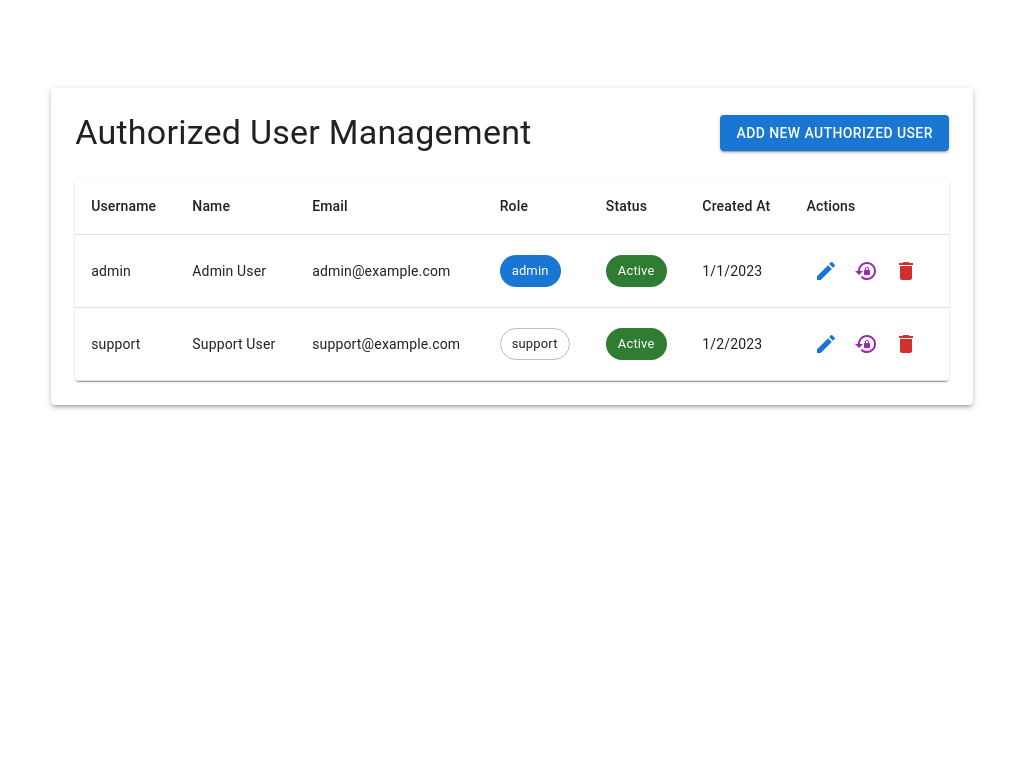
UserManagement Component › handles dialog open and close
This screenshot has width=1024, height=768.
# Click the Add New User button
Click the button "Add New Authorized User". click: (835, 133)
box: [720,115,949,151]
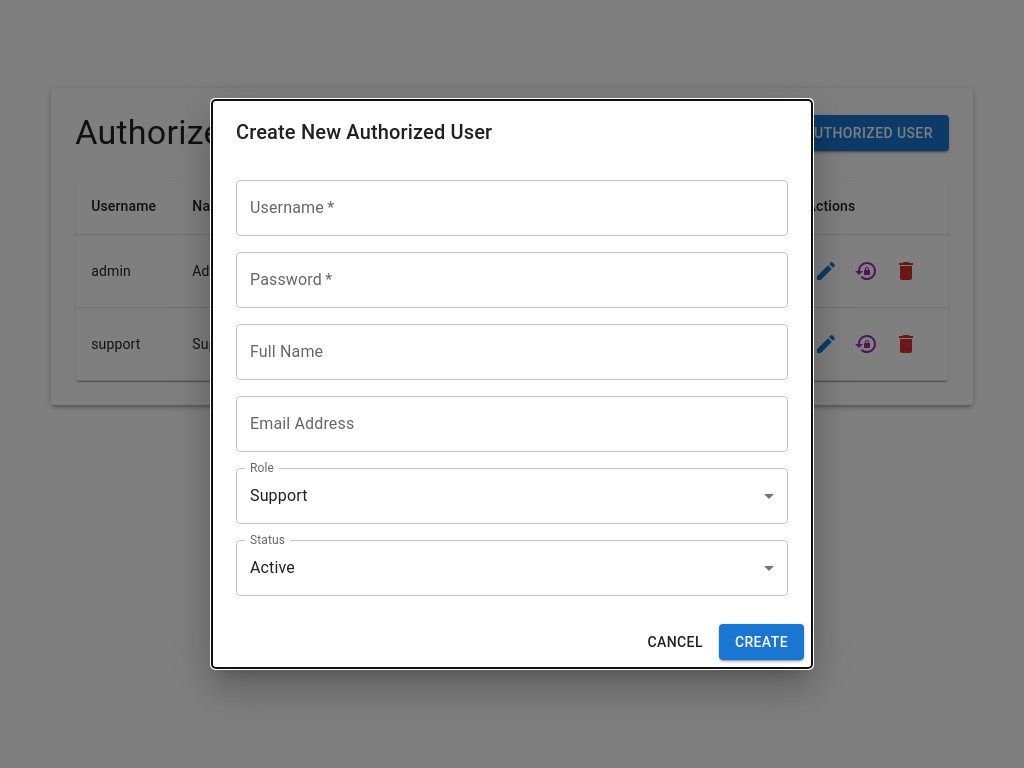
Now the dialog is shown, box [212,100,812,668]
# Find and click the Cancel button
Click the button "Cancel". click: (675, 642)
box: [639,624,711,660]
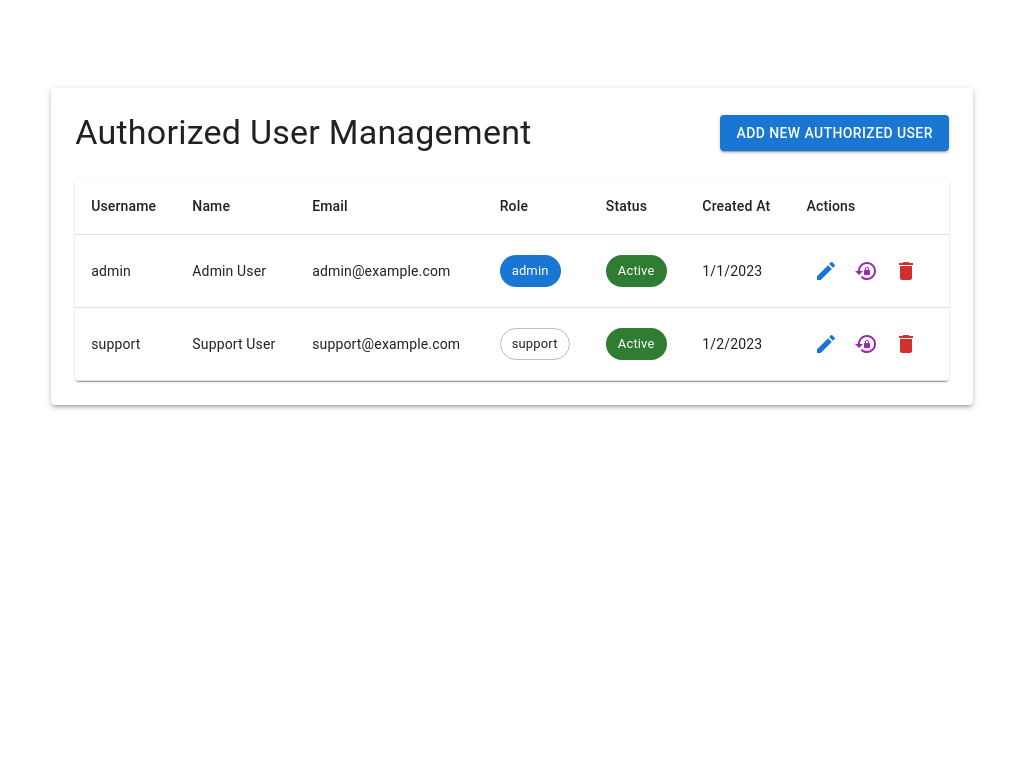
Now the dialog is gone
